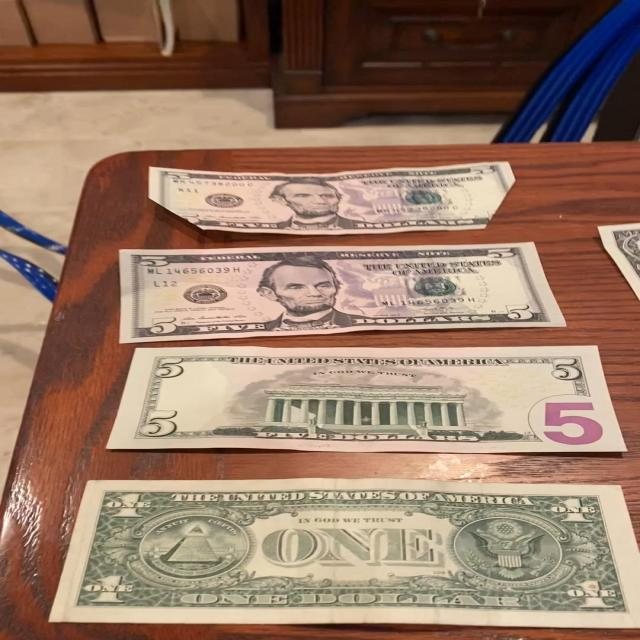1-Back: (43, 479, 639, 626)
5-Back: (103, 346, 630, 454)
5-Front: (117, 241, 569, 344), (146, 161, 518, 235)
